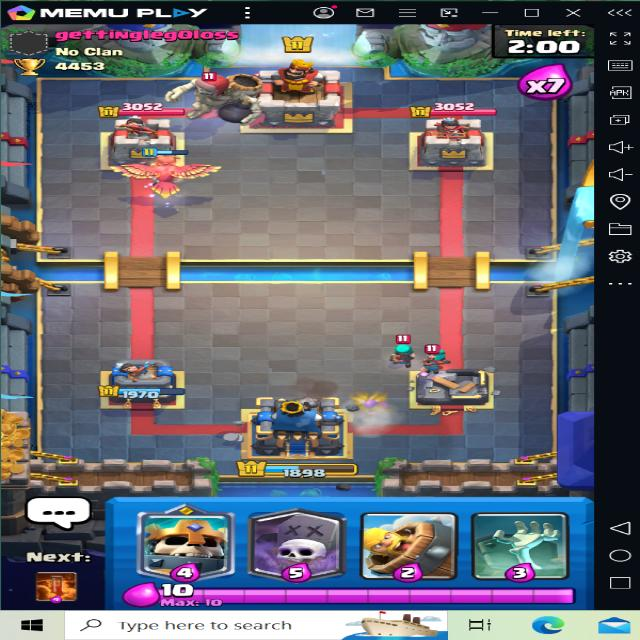Giantskeleton: (161, 70, 264, 124)
Rascalgirl: (385, 336, 427, 366), (416, 343, 454, 373)
